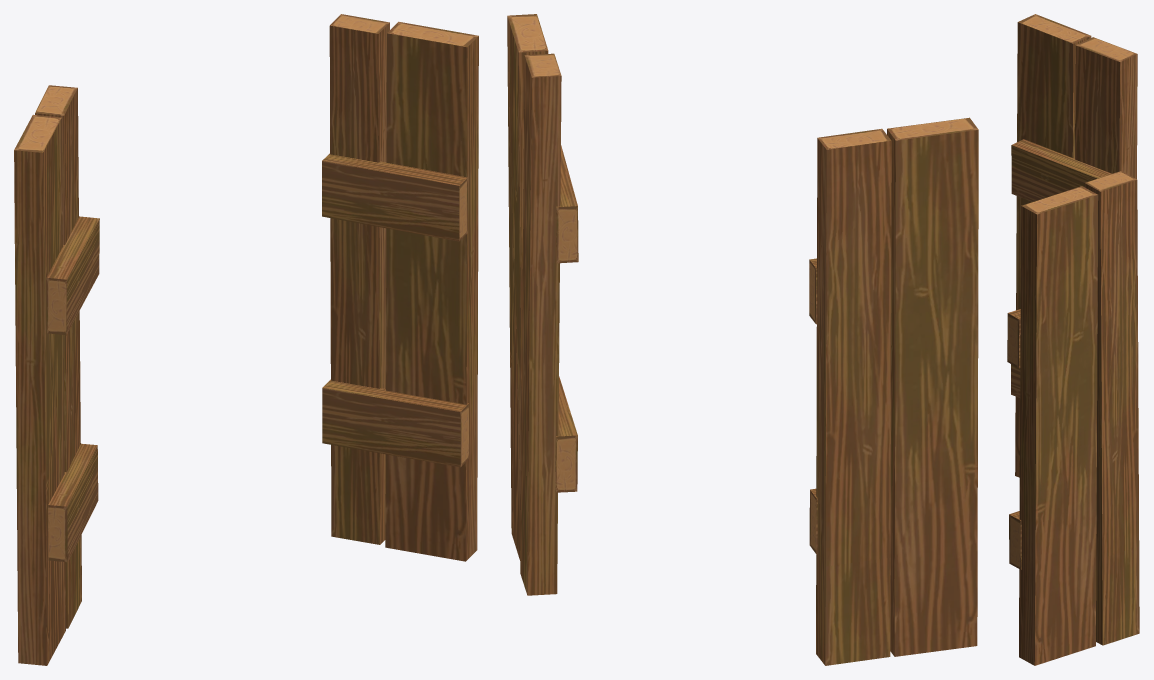
File: WindowShutters_Thin_Flat_Open.glb
3 views of the same model, side by side, from view 1: azimuth 30°, elevation 25°; view 2: azimuth 150°, elevation 25°; view 3: azimuth 270°, elevation 25° (orthographic). The views are drawn at different scales.
Parts seen in each view (by area): view 1: WindowShutters_Thin_Flat_Open; view 2: WindowShutters_Thin_Flat_Open; view 3: WindowShutters_Thin_Flat_Open.
Part boxes in pixels (left/top/right/bottom): WindowShutters_Thin_Flat_Open: left=14, top=14, right=478, bottom=665; WindowShutters_Thin_Flat_Open: left=507, top=14, right=978, bottom=665; WindowShutters_Thin_Flat_Open: left=1007, top=14, right=1139, bottom=665.
Bounding box in the file's own units: 1.35 × 1.42 × 0.3771.
Materials: 1 (1 with a texture image).
